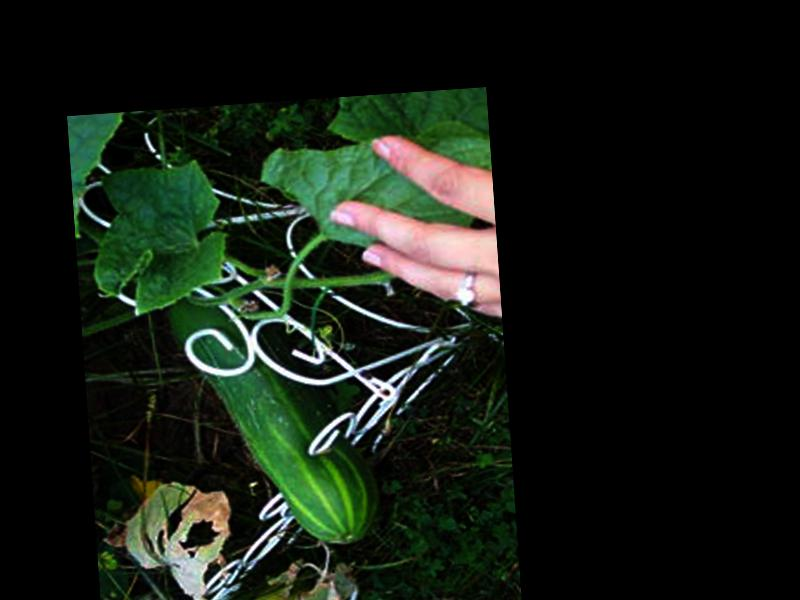Cucumber: (166, 282, 381, 554)
